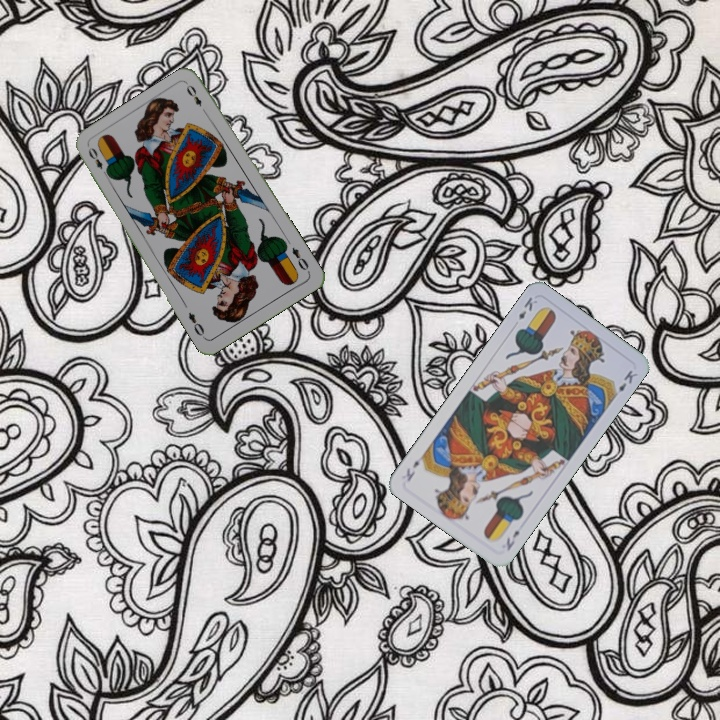EK: (514, 293, 540, 323), (502, 526, 522, 553)
EO: (84, 143, 111, 180), (288, 243, 311, 273)
